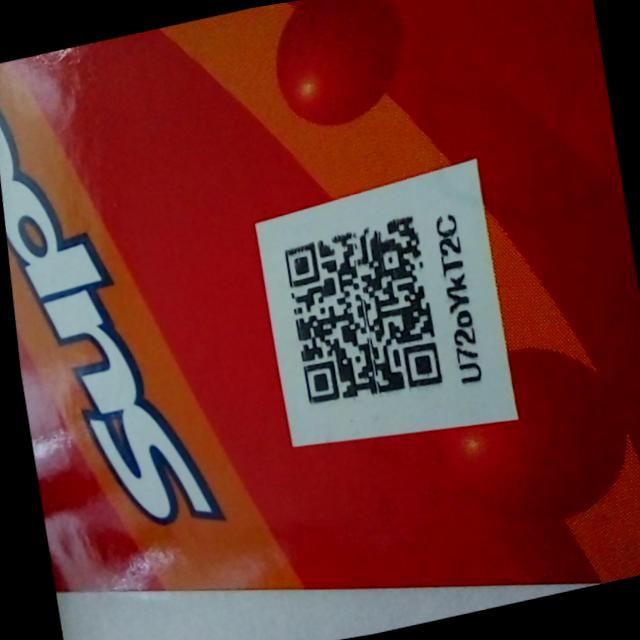QRCode: (263, 206, 462, 428)
